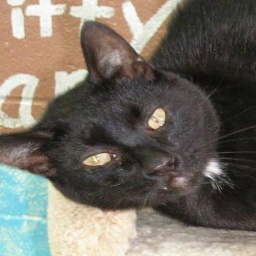cat: (4, 0, 256, 232)
